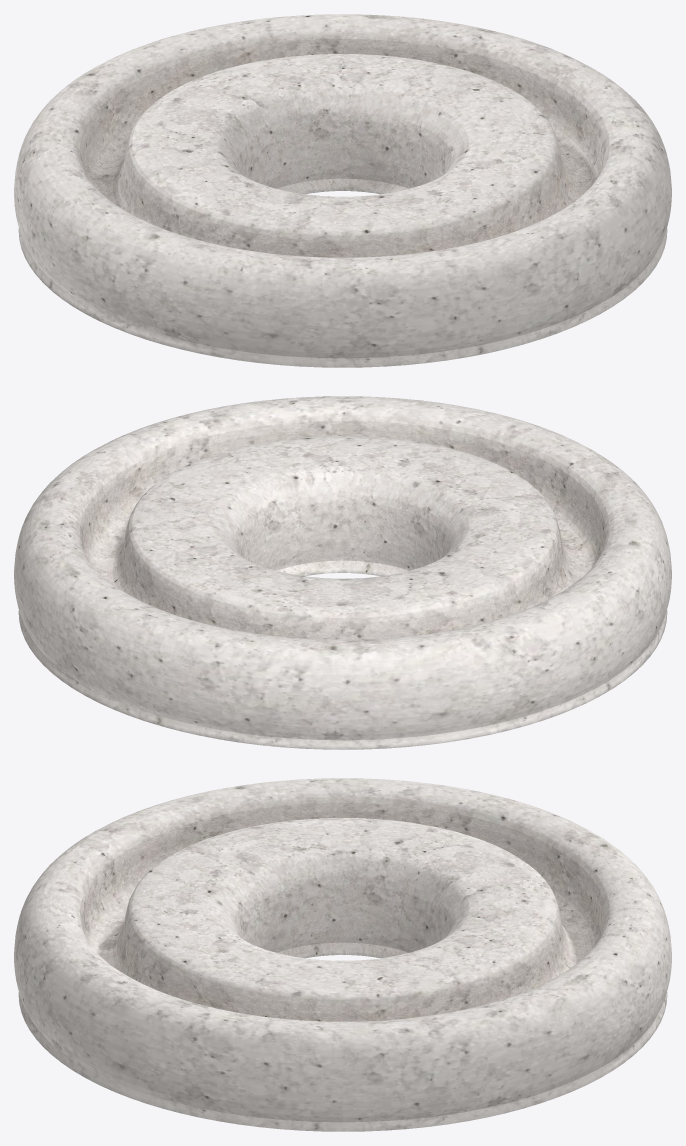
File: tzaar-tzaar-white.glb
3 views of the same model, one above another, from view 1: azimuth 30°, elevation 25°; view 2: azimuth 150°, elevation 25°; view 3: azimuth 270°, elevation 25° (orthographic).
Visible parts, largest first — view 1: tzaar-tzaar-white; view 2: tzaar-tzaar-white; view 3: tzaar-tzaar-white.
Part boxes in pixels (x1=…): tzaar-tzaar-white: x1=14, y1=14, x2=671, y2=367; tzaar-tzaar-white: x1=14, y1=396, x2=671, y2=749; tzaar-tzaar-white: x1=14, y1=778, x2=671, y2=1131.
Size of the model in its own units: 0.028 by 0.00435 by 0.028.
Materials: 1 (1 with a texture image).
